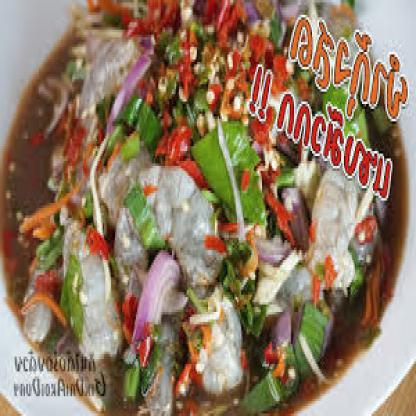Yum: (16, 15, 392, 413)
